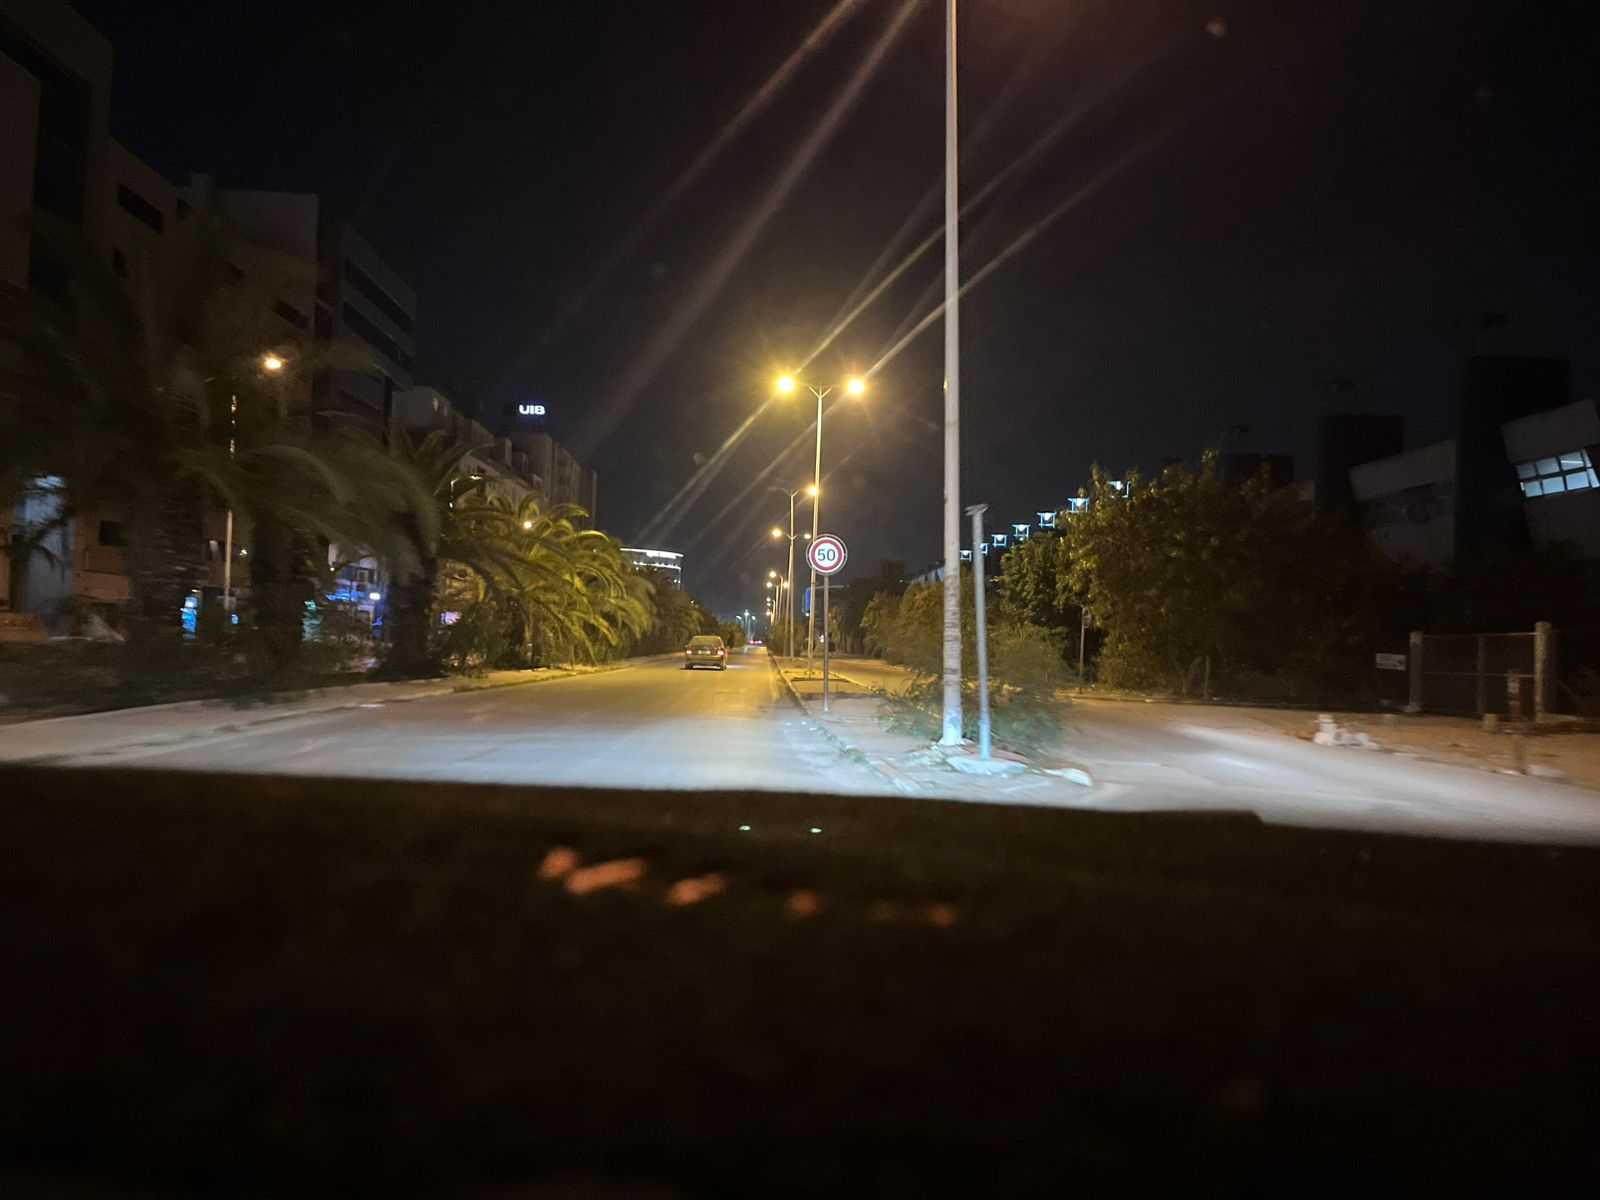SpeedLimit50: (805, 536, 849, 577)
